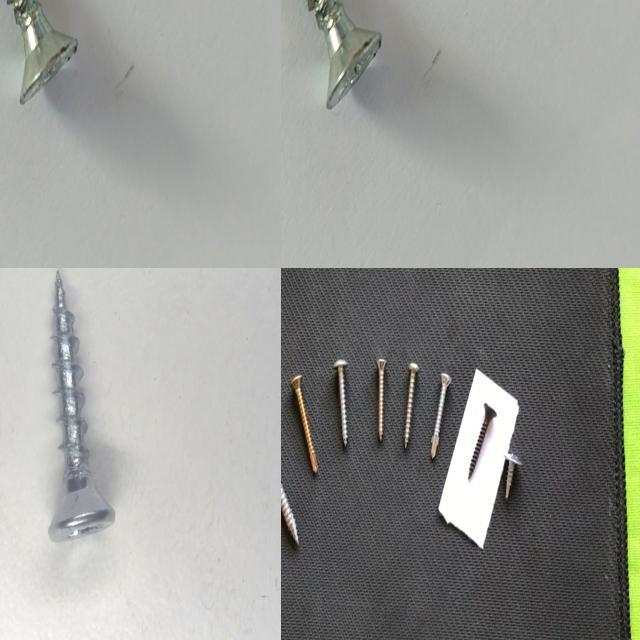Screw: (49, 271, 116, 541), (307, 0, 382, 108), (7, 0, 78, 104), (290, 375, 317, 473), (469, 402, 497, 479), (431, 372, 452, 458), (333, 358, 347, 446), (405, 362, 419, 447), (281, 481, 298, 543), (505, 452, 522, 499), (377, 357, 386, 440)
